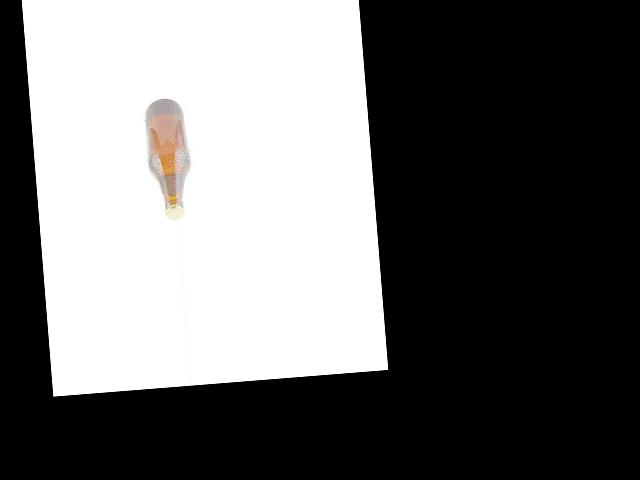beer: (144, 98, 192, 221)
